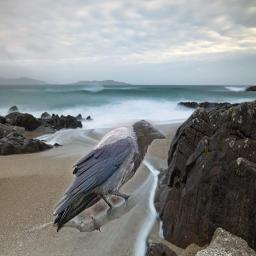Crow: (53, 119, 166, 232)
